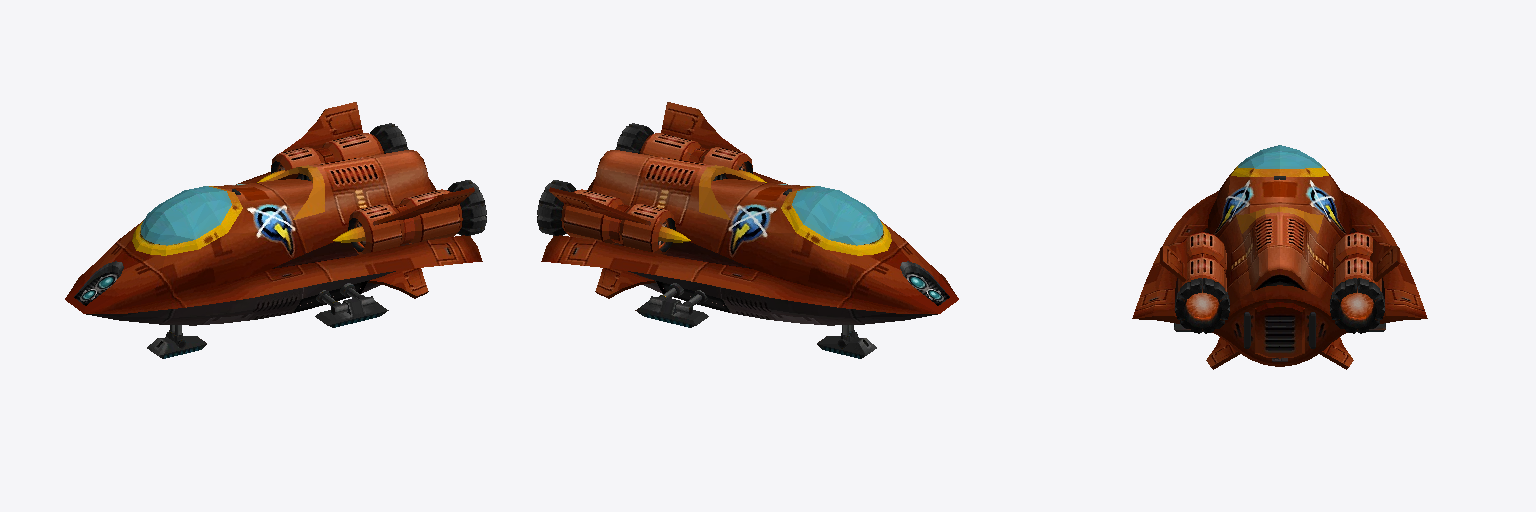
The picture shows the model from 3 angles: view 1: azimuth 30°, elevation 25°; view 2: azimuth 150°, elevation 25°; view 3: azimuth 270°, elevation 25°; orthographic projection.
Parts seen in each view (by area): view 1: Object_Texture0.jpg; view 2: Object_Texture0.jpg; view 3: Object_Texture0.jpg.
Part boxes in pixels (x1,y1,x2,y2): Object_Texture0.jpg: (65,102,486,358); Object_Texture0.jpg: (537,102,958,358); Object_Texture0.jpg: (1132,145,1427,369).
Bounding box in the file's own units: 2.5 × 1 × 1.76.
Materials: 2 (1 with a texture image).